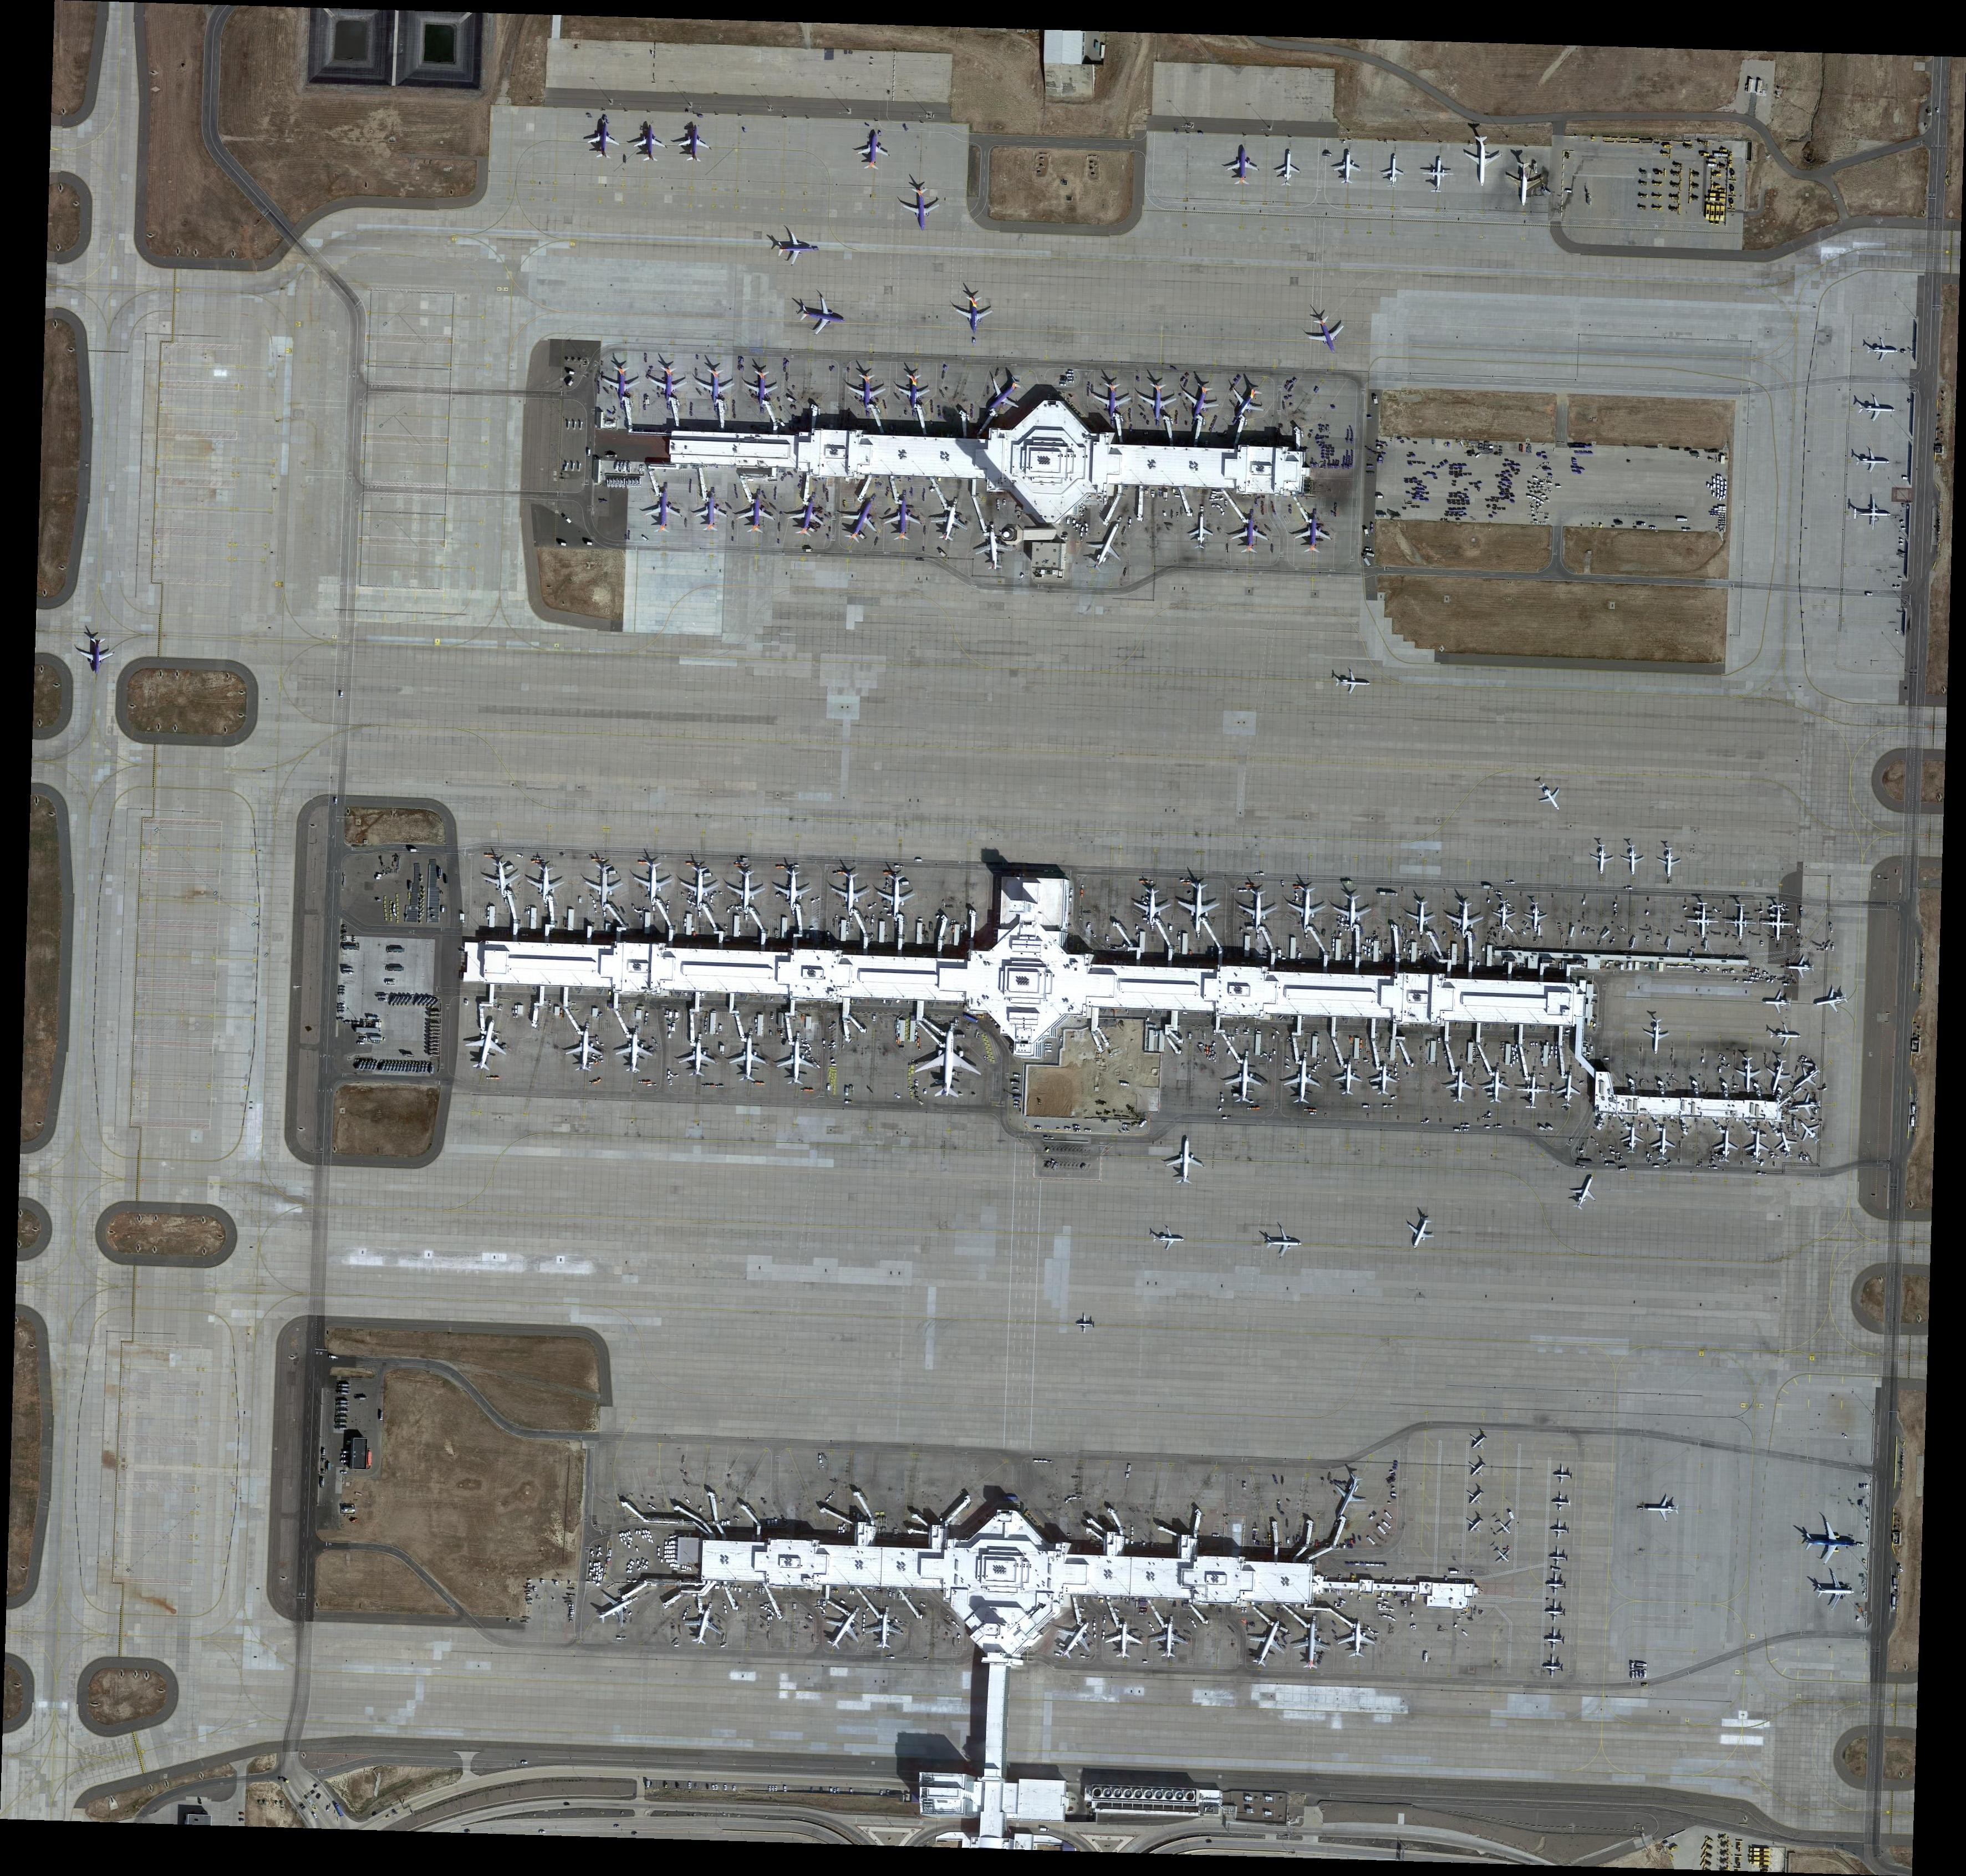plane: (909, 1020, 985, 1102), (966, 357, 1038, 430), (1211, 374, 1277, 439), (1237, 1610, 1296, 1681), (1319, 1462, 1379, 1531), (1077, 512, 1137, 580), (1042, 1608, 1105, 1672), (831, 487, 890, 551), (459, 1012, 513, 1079), (812, 1599, 873, 1659), (788, 287, 852, 342), (588, 1583, 648, 1638), (1172, 373, 1228, 431), (1801, 1515, 1858, 1569), (675, 1601, 731, 1655), (1302, 310, 1356, 364), (1176, 878, 1221, 937), (1161, 1131, 1207, 1189), (1285, 883, 1330, 940), (776, 1034, 821, 1090), (874, 866, 919, 921), (785, 490, 831, 543), (928, 496, 972, 550), (1397, 1207, 1444, 1257), (771, 864, 815, 919), (1281, 1054, 1323, 1109), (1222, 1053, 1265, 1107), (562, 1023, 604, 1078), (1236, 884, 1280, 937), (1292, 1617, 1332, 1674), (724, 866, 767, 919), (897, 185, 944, 233), (677, 864, 721, 914), (1462, 133, 1502, 187), (1087, 379, 1135, 424), (974, 523, 1016, 574), (1504, 160, 1546, 211), (829, 868, 872, 918), (583, 861, 625, 912), (613, 1027, 655, 1078), (1130, 882, 1173, 930), (643, 486, 684, 536), (1333, 890, 1374, 939), (674, 1034, 718, 1079), (600, 361, 644, 406), (633, 859, 674, 908), (1758, 1052, 1797, 1101), (1229, 512, 1271, 558), (884, 495, 923, 544), (74, 633, 118, 678), (1135, 379, 1178, 424), (864, 1608, 906, 1654), (1565, 1168, 1605, 1216), (480, 858, 525, 900), (1150, 1616, 1190, 1663), (728, 1034, 768, 1082), (1444, 898, 1487, 942), (1295, 509, 1334, 557), (1814, 1571, 1857, 1613), (1105, 1617, 1145, 1661), (953, 294, 995, 337), (692, 366, 735, 408), (1530, 776, 1571, 819), (1787, 1112, 1830, 1153), (1262, 1221, 1306, 1261), (646, 364, 689, 405), (1786, 1058, 1827, 1099), (845, 374, 887, 414), (523, 864, 566, 904), (775, 230, 820, 268), (1223, 141, 1260, 187), (1851, 493, 1892, 533), (894, 369, 933, 411), (854, 128, 892, 172), (737, 495, 776, 536), (1810, 982, 1853, 1020), (1760, 901, 1796, 945), (585, 119, 622, 161), (678, 122, 714, 165), (1687, 899, 1723, 942), (1339, 1618, 1377, 1659), (694, 491, 730, 533), (1420, 153, 1456, 195), (1724, 901, 1760, 944), (741, 370, 781, 406), (1405, 897, 1439, 941), (1856, 392, 1896, 427), (634, 122, 668, 162), (1638, 1017, 1672, 1057), (1517, 1071, 1550, 1112), (1332, 666, 1373, 699), (1641, 1494, 1681, 1527), (1734, 1053, 1765, 1094), (1482, 1064, 1512, 1107), (1444, 1065, 1475, 1105), (1770, 1126, 1802, 1164), (1187, 509, 1216, 552), (1275, 147, 1302, 190), (1368, 1059, 1398, 1099), (1150, 1223, 1188, 1253), (1556, 1068, 1582, 1111), (1333, 148, 1362, 187), (1713, 1123, 1739, 1166), (1332, 1059, 1361, 1097), (1745, 1126, 1771, 1168), (1587, 841, 1616, 879), (1488, 1511, 1521, 1543), (1651, 1124, 1677, 1163), (1852, 447, 1891, 474), (1380, 152, 1405, 192), (1782, 952, 1816, 982), (1461, 1454, 1493, 1485), (1463, 1426, 1495, 1457), (1787, 1093, 1824, 1120), (1865, 337, 1900, 364), (1769, 1021, 1802, 1049), (1490, 899, 1517, 932), (1489, 1539, 1519, 1570), (1761, 988, 1792, 1017), (1619, 843, 1646, 876), (1460, 1482, 1490, 1511), (1524, 903, 1549, 935), (1656, 846, 1681, 878), (1460, 1512, 1490, 1539), (1620, 1121, 1644, 1155), (1544, 1598, 1567, 1623), (1549, 1464, 1575, 1487), (1542, 1629, 1566, 1652), (1542, 1655, 1565, 1679), (1545, 1573, 1567, 1597), (1548, 1492, 1573, 1512), (1547, 1519, 1571, 1539), (1546, 1548, 1570, 1567), (1076, 1313, 1095, 1335)
